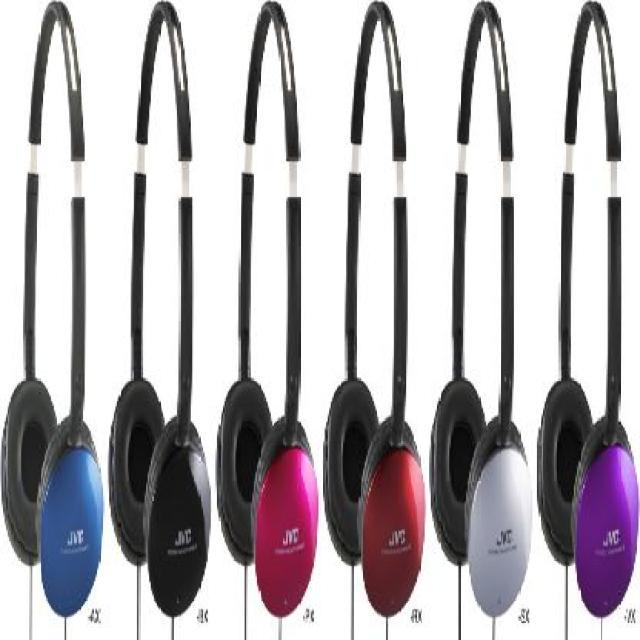earphone: (435, 0, 541, 629), (116, 11, 220, 611), (545, 6, 639, 630), (2, 0, 94, 621), (228, 1, 318, 629), (340, 4, 426, 618)
